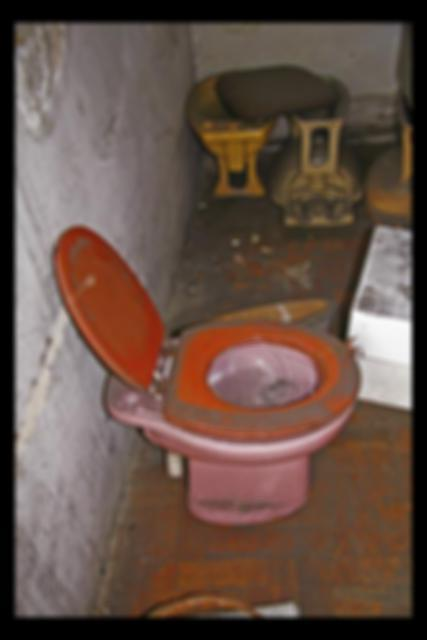Sanitario: (59, 243, 383, 528)
